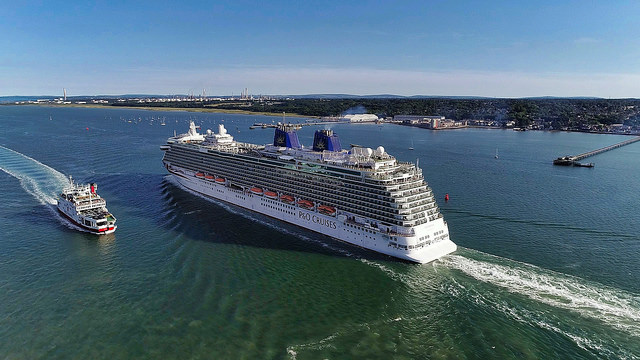cruise_ship: (160, 121, 461, 262), (54, 176, 121, 236)
